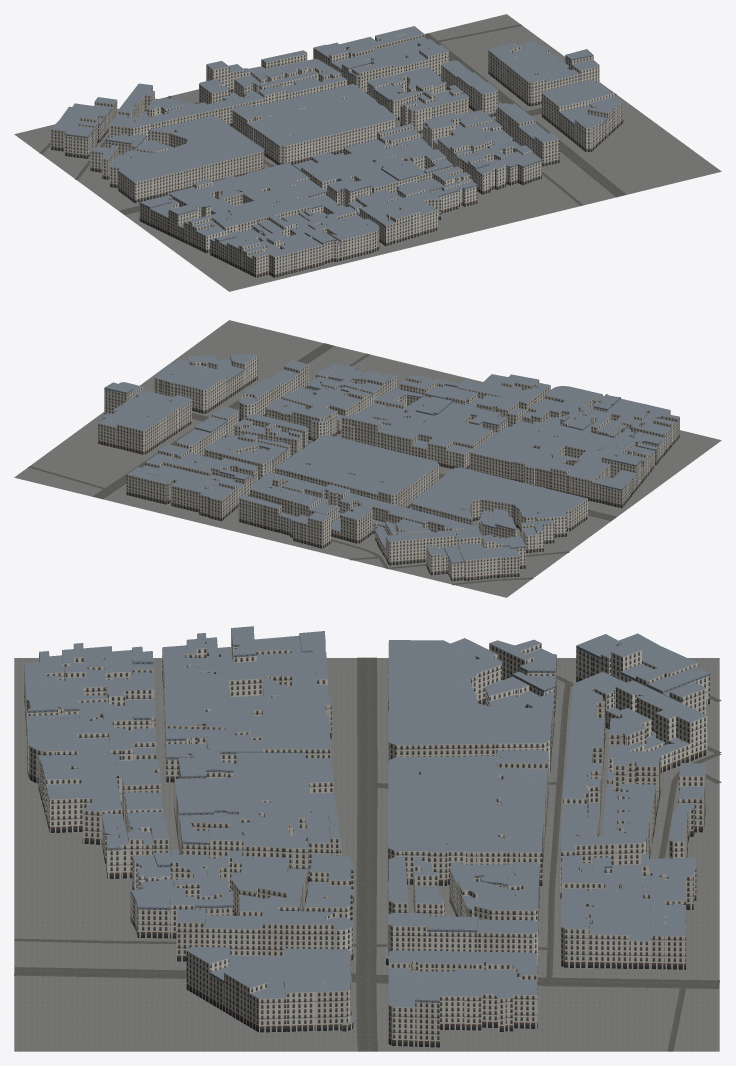
File: reaumur.glb
3 views of the same model, one above another, from view 1: azimuth 30°, elevation 25°; view 2: azimuth 150°, elevation 25°; view 3: azimuth 270°, elevation 25° (orthographic). The views are drawn at different scales.
Parts seen in each view (by area): view 1: roof, sidewalk, storey_0, storey_3, storey_2, balcony_0, storey_1, balcony_3, balcony_2, balcony_1, road, ground_2 (+3 smaller); view 2: roof, sidewalk, storey_0, storey_3, storey_2, balcony_0, storey_1, balcony_2, balcony_3, balcony_1, road, ground_1 (+3 smaller); view 3: roof, sidewalk, road, storey_0, storey_3, storey_2, storey_1, balcony_0, balcony_2, balcony_3, balcony_1, mansard (+3 smaller).
Part boxes in pixels (left/top/right/bottom): roof: left=51, top=26, right=622, bottom=258; sidewalk: left=14, top=14, right=721, bottom=291; storey_0: left=80, top=48, right=623, bottom=273; storey_3: left=50, top=46, right=607, bottom=271; storey_2: left=64, top=57, right=619, bottom=264; balcony_0: left=97, top=43, right=623, bottom=270; storey_1: left=107, top=39, right=614, bottom=273; balcony_3: left=50, top=34, right=607, bottom=267; balcony_2: left=64, top=55, right=619, bottom=261; balcony_1: left=94, top=34, right=614, bottom=270; road: left=39, top=24, right=626, bottom=214; ground_2: left=50, top=103, right=607, bottom=275; roof: left=98, top=353, right=679, bottom=562; sidewalk: left=14, top=320, right=721, bottom=597; storey_0: left=98, top=378, right=679, bottom=575; storey_3: left=104, top=364, right=677, bottom=573; storey_2: left=146, top=355, right=670, bottom=574; balcony_0: left=98, top=367, right=679, bottom=572; storey_1: left=126, top=362, right=670, bottom=577; balcony_2: left=157, top=358, right=670, bottom=571; balcony_3: left=104, top=368, right=677, bottom=570; balcony_1: left=126, top=365, right=670, bottom=573; road: left=28, top=343, right=616, bottom=585; ground_1: left=98, top=420, right=679, bottom=580; roof: left=24, top=626, right=709, bottom=1024; sidewalk: left=14, top=658, right=719, bottom=1051; road: left=14, top=657, right=721, bottom=1051; storey_0: left=26, top=632, right=707, bottom=1039; storey_3: left=38, top=649, right=696, bottom=1040; storey_2: left=44, top=641, right=694, bottom=1024; storey_1: left=24, top=645, right=709, bottom=1012; balcony_0: left=26, top=637, right=707, bottom=1034; balcony_2: left=44, top=643, right=694, bottom=1019; balcony_3: left=38, top=653, right=696, bottom=1035; balcony_1: left=24, top=642, right=709, bottom=1007; mansard: left=26, top=629, right=709, bottom=1002.
Size of the model in its own units: 488 by 27.2 by 370.
Materials: 15 (15 with a texture image).
